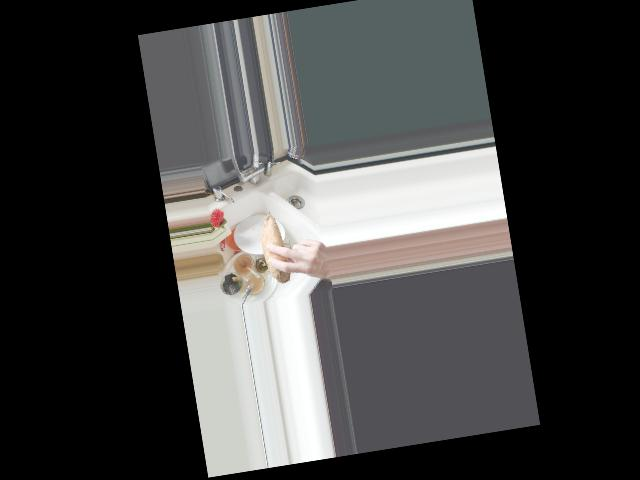sweet_potato: (257, 205, 296, 287)
